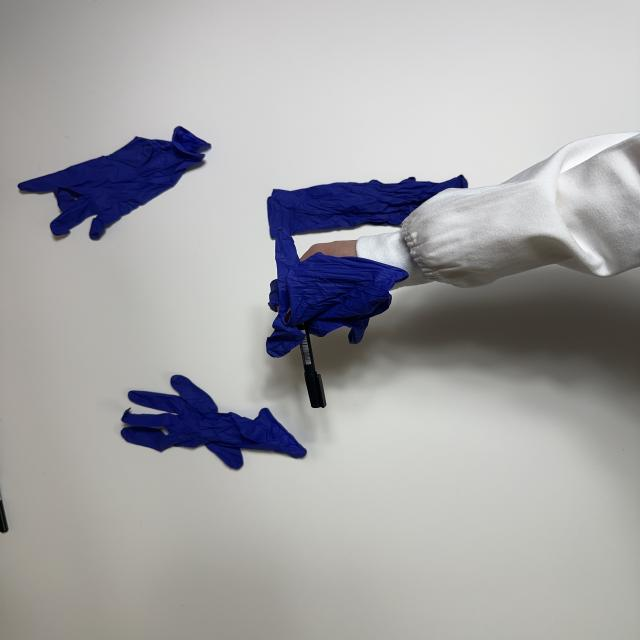glove_not_fitted: (264, 230, 409, 360)
